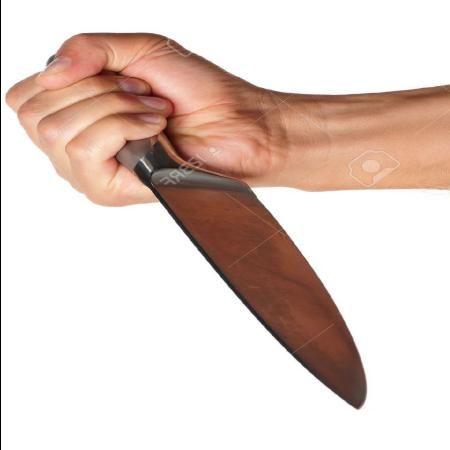long weapon: (36, 86, 375, 419)
